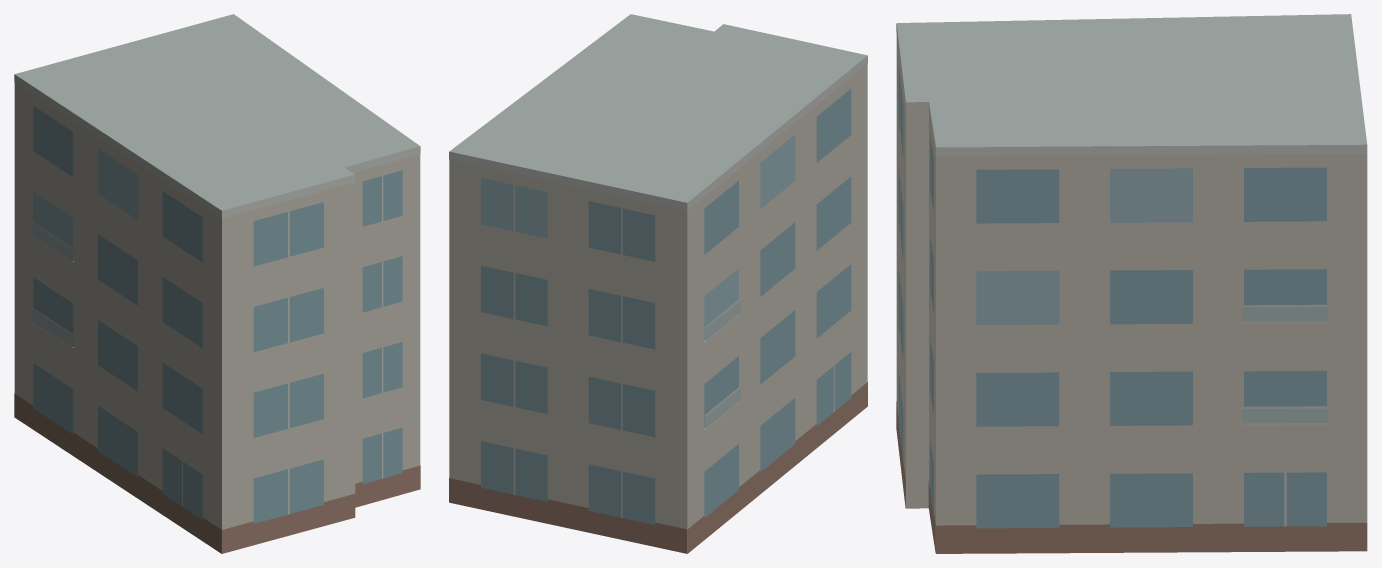
File: survey-upis-32818927.glb
The picture shows the model from 3 angles, left to right: view 1: azimuth 30°, elevation 25°; view 2: azimuth 150°, elevation 25°; view 3: azimuth 270°, elevation 25°; orthographic projection. The views are drawn at different scales.
Parts seen in each view (by area): view 1: survey-upis-32818927.tmp; view 2: survey-upis-32818927.tmp; view 3: survey-upis-32818927.tmp.
Boxes of the visible parts, x1=… form: survey-upis-32818927.tmp: x1=14, y1=14, x2=420, y2=553; survey-upis-32818927.tmp: x1=449, y1=14, x2=867, y2=553; survey-upis-32818927.tmp: x1=896, y1=14, x2=1367, y2=553.
Size of the model in its own units: 7.4 by 10.5 by 11.03.
